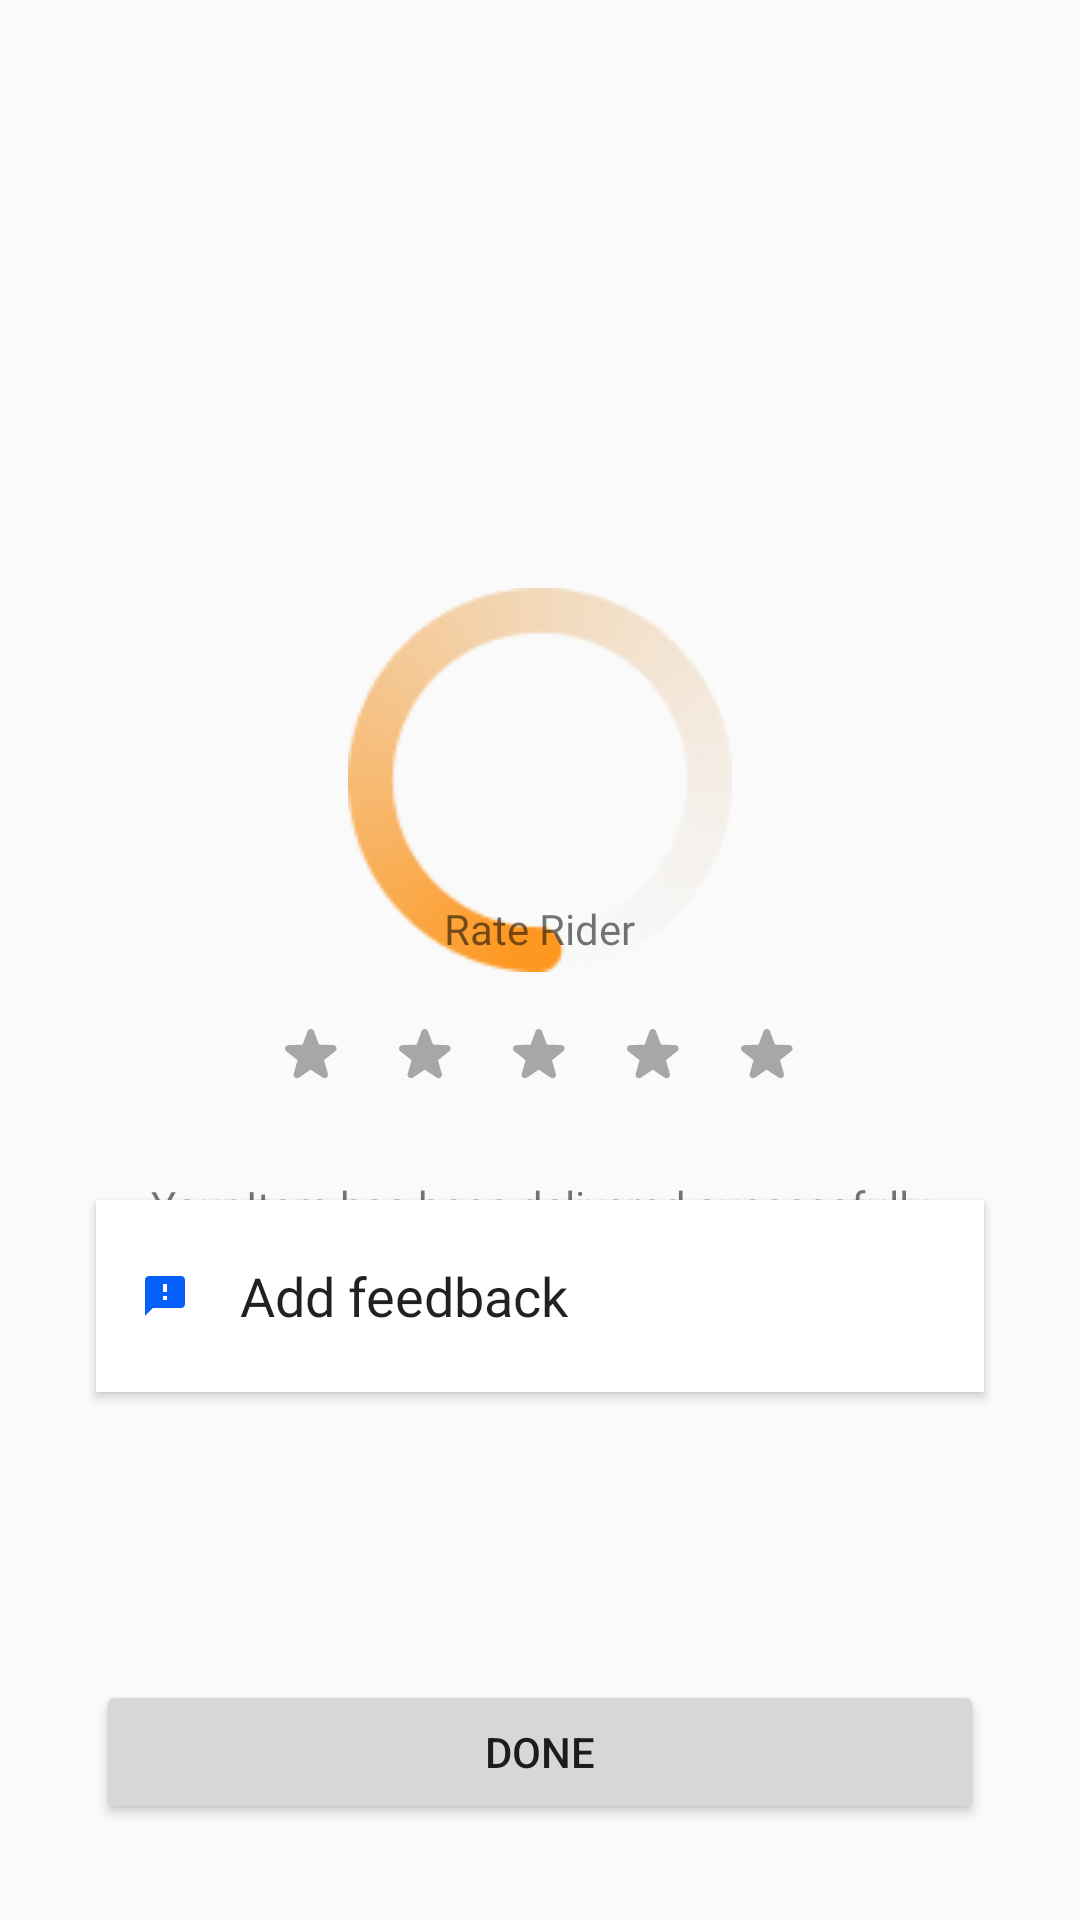

Screen size 1080px x 1920px. Icon name, then its box in pixels as (x1, y1, x2, y2):
ing star: (285, 1029, 337, 1078), (399, 1029, 451, 1078), (513, 1029, 565, 1078), (627, 1029, 679, 1078), (741, 1029, 793, 1078)
